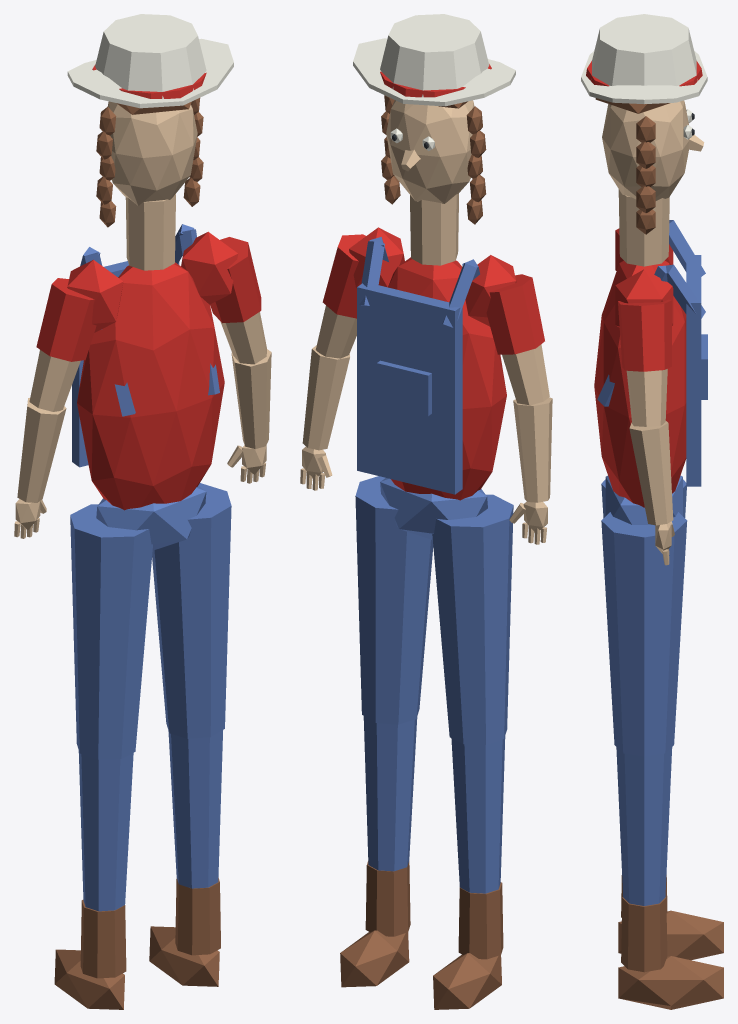
Rendered from OutfitSwampLady.fbx.
The picture shows the model from 3 angles, left to right: view 1: azimuth 30°, elevation 25°; view 2: azimuth 150°, elevation 25°; view 3: azimuth 270°, elevation 25°; orthographic projection. The views are drawn at different scales.
Visible parts, largest first — view 1: Torso, ThighLeft, ThighRight, CalfLeft, CalfRight, HatCrown, Face, SleeveLeft, CowboyBrim, Neck, Waist, BootTopLeft (+14 smaller); view 2: BibPanel, ThighLeft, ThighRight, Torso, CalfLeft, CalfRight, Face, HatCrown, SleeveLeft, CowboyBrim, ForearmSkinLeft, Waist (+16 smaller); view 3: ThighRight, Torso, CalfRight, HatCrown, Face, FootRight, SleeveRight, BibPanel, ForearmSkinRight, BootTopRight, Neck, FootLeft (+16 smaller).
Boxes of the visible parts, <box> form: Torso: <box>77,262,224,510</box>; ThighLeft: <box>70,504,152,759</box>; ThighRight: <box>152,483,231,738</box>; CalfLeft: <box>78,750,133,911</box>; CalfRight: <box>168,730,222,888</box>; HatCrown: <box>95,14,206,98</box>; Face: <box>107,101,197,205</box>; SleeveLeft: <box>36,278,96,361</box>; CowboyBrim: <box>67,38,233,108</box>; Neck: <box>125,194,175,270</box>; Waist: <box>96,485,206,550</box>; BootTopLeft: <box>80,900,126,978</box>; BibPanel: <box>357,283,462,494</box>; ThighLeft: <box>432,494,513,744</box>; ThighRight: <box>355,476,433,724</box>; Torso: <box>388,257,506,500</box>; CalfLeft: <box>451,736,505,893</box>; CalfRight: <box>363,716,417,871</box>; Face: <box>386,100,474,203</box>; HatCrown: <box>380,14,489,97</box>; SleeveLeft: <box>486,274,544,354</box>; CowboyBrim: <box>353,38,515,106</box>; ForearmSkinLeft: <box>513,397,552,502</box>; Waist: <box>380,478,487,539</box>; ThighRight: <box>601,512,687,756</box>; Torso: <box>594,260,686,507</box>; CalfRight: <box>616,747,672,906</box>; HatCrown: <box>590,14,697,85</box>; Face: <box>602,100,688,200</box>; FootRight: <box>618,956,723,1009</box>; SleeveRight: <box>618,299,671,371</box>; BibPanel: <box>686,255,701,486</box>; ForearmSkinRight: <box>629,421,673,525</box>; BootTopRight: <box>621,897,667,972</box>; Neck: <box>618,189,669,266</box>; FootLeft: <box>618,910,723,960</box>.
Size of the model in its own units: 0.4727 by 1.75 by 0.2374.
